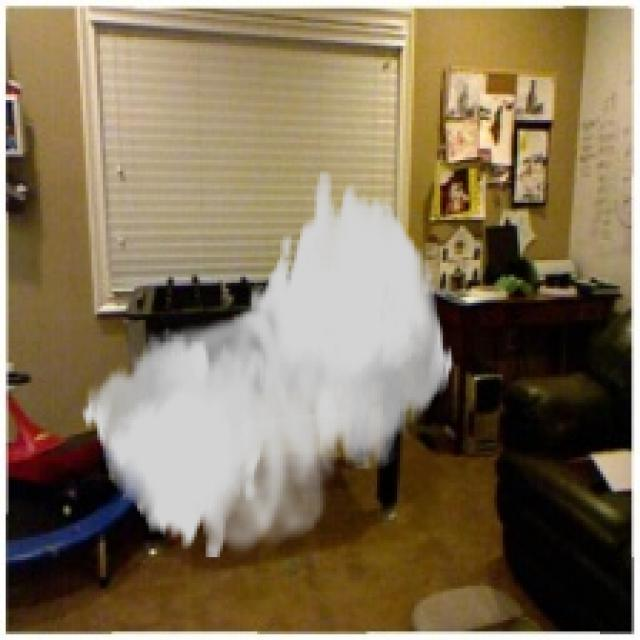smoke: (80, 171, 454, 560)
